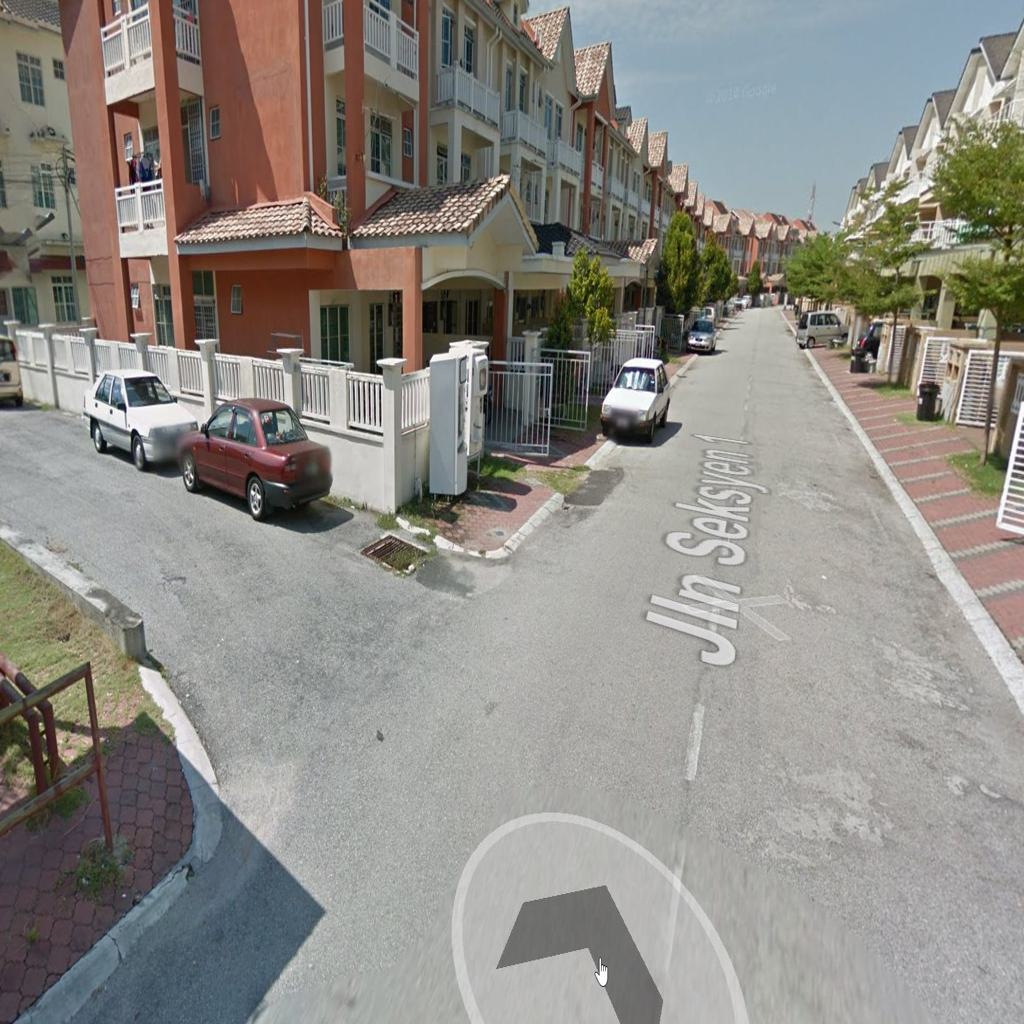Junction: (72, 490, 533, 842)
